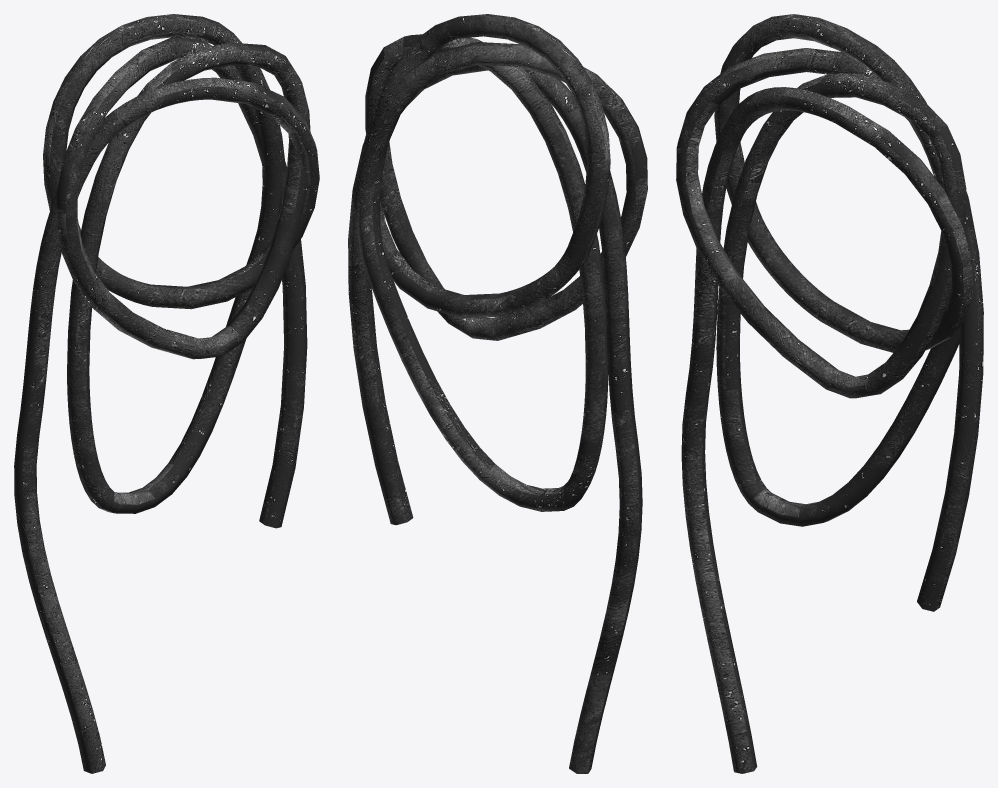
The model's file is Cable5.fbx.
The picture shows the model from 3 angles, left to right: view 1: azimuth 30°, elevation 25°; view 2: azimuth 150°, elevation 25°; view 3: azimuth 330°, elevation 25°; orthographic projection. The views are drawn at different scales.
Visible parts, largest first — view 1: Wire.005; view 2: Wire.005; view 3: Wire.005.
Boxes of the visible parts, x1,y1,x2,y2 form: Wire.005: [14, 14, 319, 773]; Wire.005: [348, 14, 647, 773]; Wire.005: [676, 14, 983, 773].
Size of the model in its own units: 1123 by 2709 by 289.
